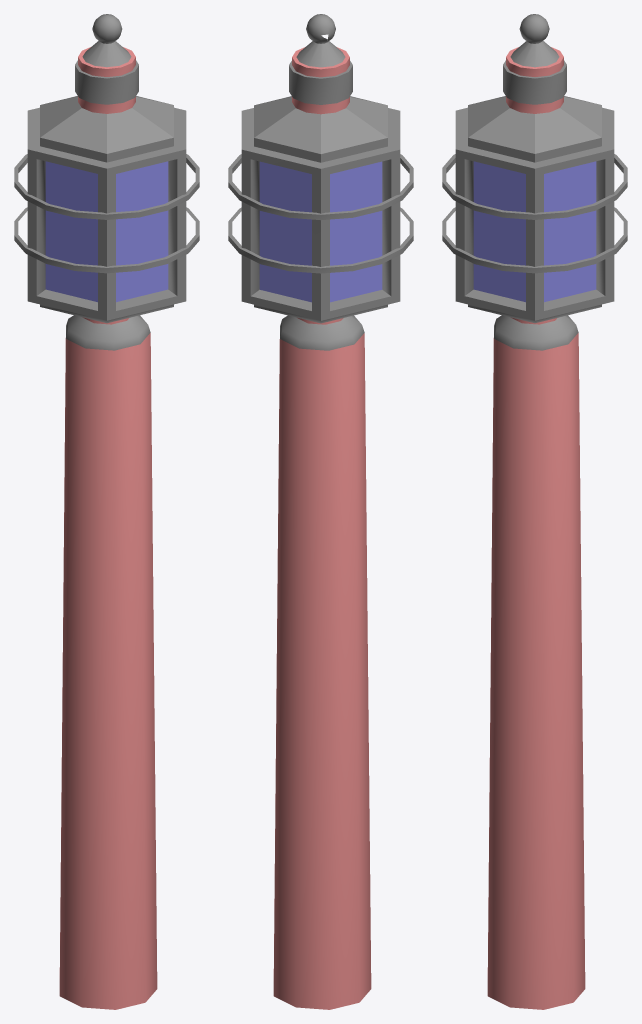
The model's file is LanternOnPost_SM.gltf.
3 views of the same model, side by side, from view 1: azimuth 30°, elevation 25°; view 2: azimuth 150°, elevation 25°; view 3: azimuth 270°, elevation 25° (orthographic).
Visible parts, largest first — view 1: LanternOnPost_SM; view 2: LanternOnPost_SM; view 3: LanternOnPost_SM.
Part boxes in pixels (x1=…): LanternOnPost_SM: x1=14, y1=14, x2=199, y2=1009; LanternOnPost_SM: x1=228, y1=14, x2=413, y2=1009; LanternOnPost_SM: x1=442, y1=14, x2=627, y2=1009.
Size of the model in its own units: 5.46 by 31.12 by 5.37.
